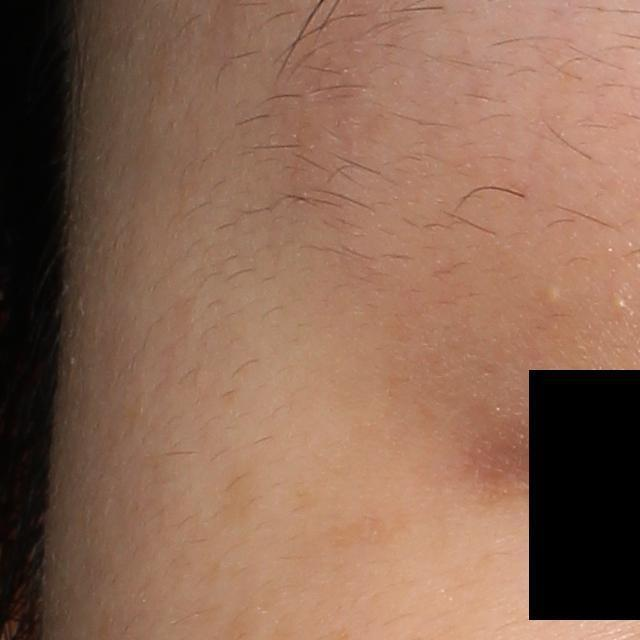melasma: (320, 505, 421, 549), (214, 463, 262, 529)
other: (537, 281, 562, 305), (609, 295, 627, 309)
